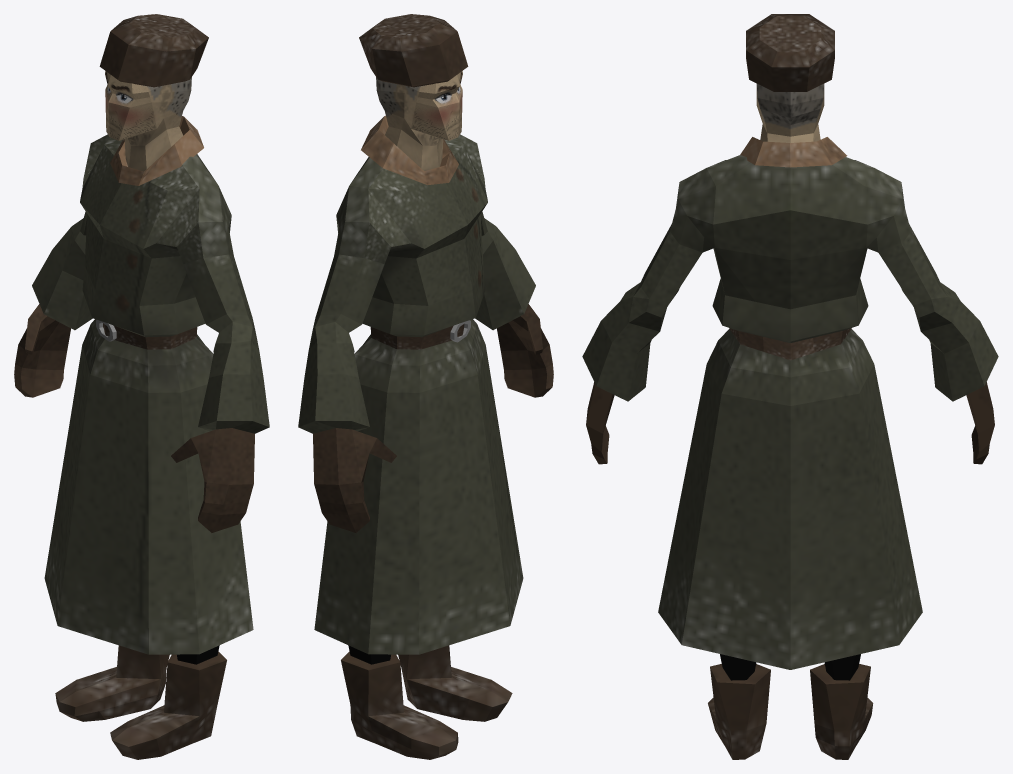
File: Solider1.fbx
The picture shows the model from 3 angles, left to right: view 1: azimuth 30°, elevation 25°; view 2: azimuth 150°, elevation 25°; view 3: azimuth 270°, elevation 25°; orthographic projection. The views are drawn at different scales.
Parts seen in each view (by area): view 1: Solider_1; view 2: Solider_1; view 3: Solider_1.
Boxes of the visible parts, x1,y1,x2,y2 form: Solider_1: (14,14,269,759); Solider_1: (298,14,553,759); Solider_1: (582,14,998,759).
Bounding box in the file's own units: 91.21 × 377 × 197.
Materials: 1 (1 with a texture image).
